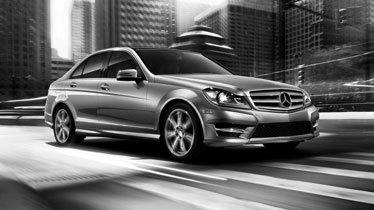car: (27, 26, 342, 181)
